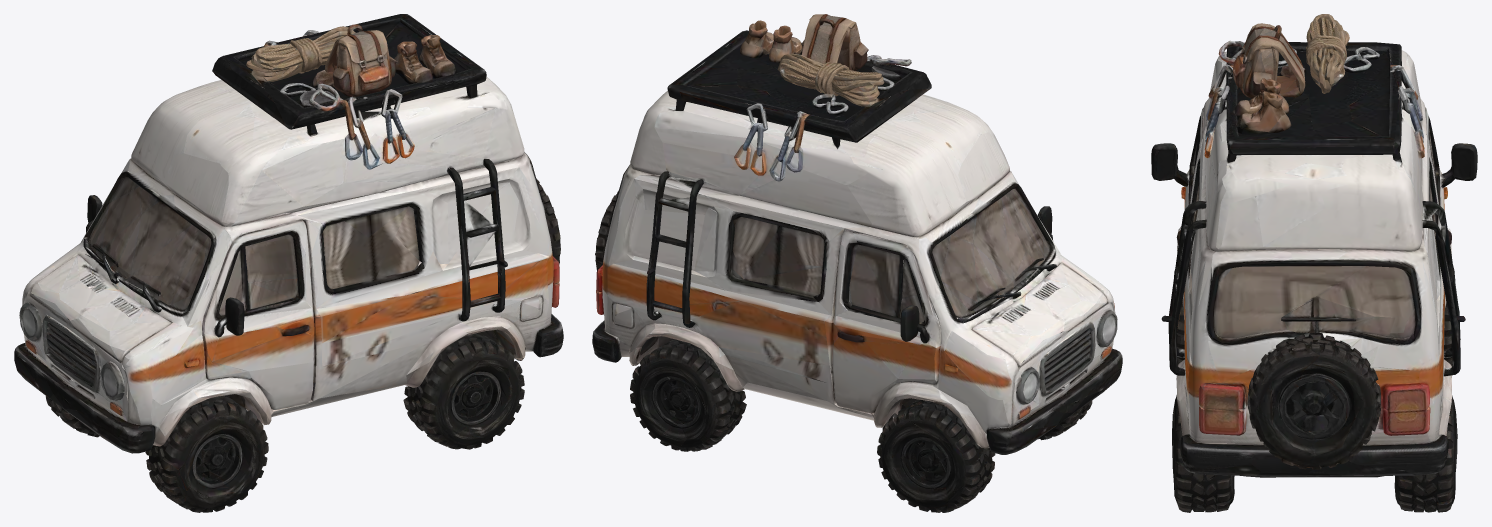
The model's file is van.glb.
3 views of the same model, side by side, from view 1: azimuth 30°, elevation 25°; view 2: azimuth 150°, elevation 25°; view 3: azimuth 270°, elevation 25° (orthographic). The views are drawn at different scales.
Visible parts, largest first — view 1: Mesh_0; view 2: Mesh_0; view 3: Mesh_0.
Part boxes in pixels (box(x1,y1,x2,y2)): Mesh_0: box(14, 14, 563, 512); Mesh_0: box(592, 14, 1122, 512); Mesh_0: box(1151, 14, 1477, 512).
Size of the model in its own units: 1.9 by 1.59 by 1.06.
1 material, 1 textured.
